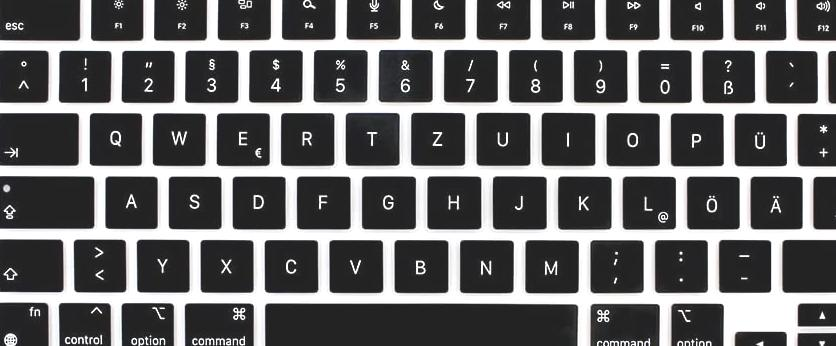0: (635, 46, 691, 102)
1: (56, 47, 110, 102)
2: (118, 47, 175, 102)
3: (182, 46, 239, 102)
4: (246, 46, 303, 102)
5: (310, 46, 368, 102)
6: (374, 45, 433, 102)
7: (441, 45, 497, 103)
8: (505, 46, 563, 102)
9: (570, 46, 627, 102)
a: (102, 172, 157, 227)
accent: (763, 46, 817, 102)
ae: (747, 172, 802, 228)
alt-left: (118, 301, 175, 346)
altgr-right: (667, 301, 724, 346)
b: (391, 236, 449, 291)
c: (261, 236, 318, 292)
caret: (1, 47, 48, 102)
comma: (586, 235, 643, 291)
d: (229, 172, 285, 229)
e: (213, 108, 269, 165)
f: (294, 172, 350, 228)
g: (359, 172, 415, 228)
h: (424, 172, 480, 228)
hash: (810, 173, 836, 228)
i: (539, 108, 594, 164)
j: (490, 172, 546, 228)
k: (555, 172, 611, 228)
keyboard: (1, 1, 836, 346)
l: (620, 173, 675, 228)
less: (70, 234, 126, 292)
m: (522, 235, 578, 292)
minus: (715, 236, 770, 291)
n: (455, 236, 513, 292)
o: (603, 108, 659, 166)
oe: (683, 173, 739, 229)
p: (668, 109, 723, 165)
plus: (795, 109, 836, 165)
point: (652, 235, 708, 290)
q: (86, 108, 142, 165)
r: (277, 108, 334, 164)
s: (165, 173, 222, 228)
shift-left: (1, 235, 63, 292)
shift-lock: (1, 173, 95, 228)
shift-right: (779, 235, 836, 292)
space: (261, 300, 579, 346)
ss: (699, 46, 755, 102)
strg-left: (56, 300, 111, 346)
t: (343, 108, 399, 164)
tab: (1, 109, 79, 164)
u: (473, 108, 530, 165)
ue: (731, 109, 786, 166)
v: (326, 236, 383, 291)
w: (149, 108, 205, 164)
x: (198, 235, 253, 291)
y: (134, 235, 189, 291)
z: (408, 108, 466, 165)
